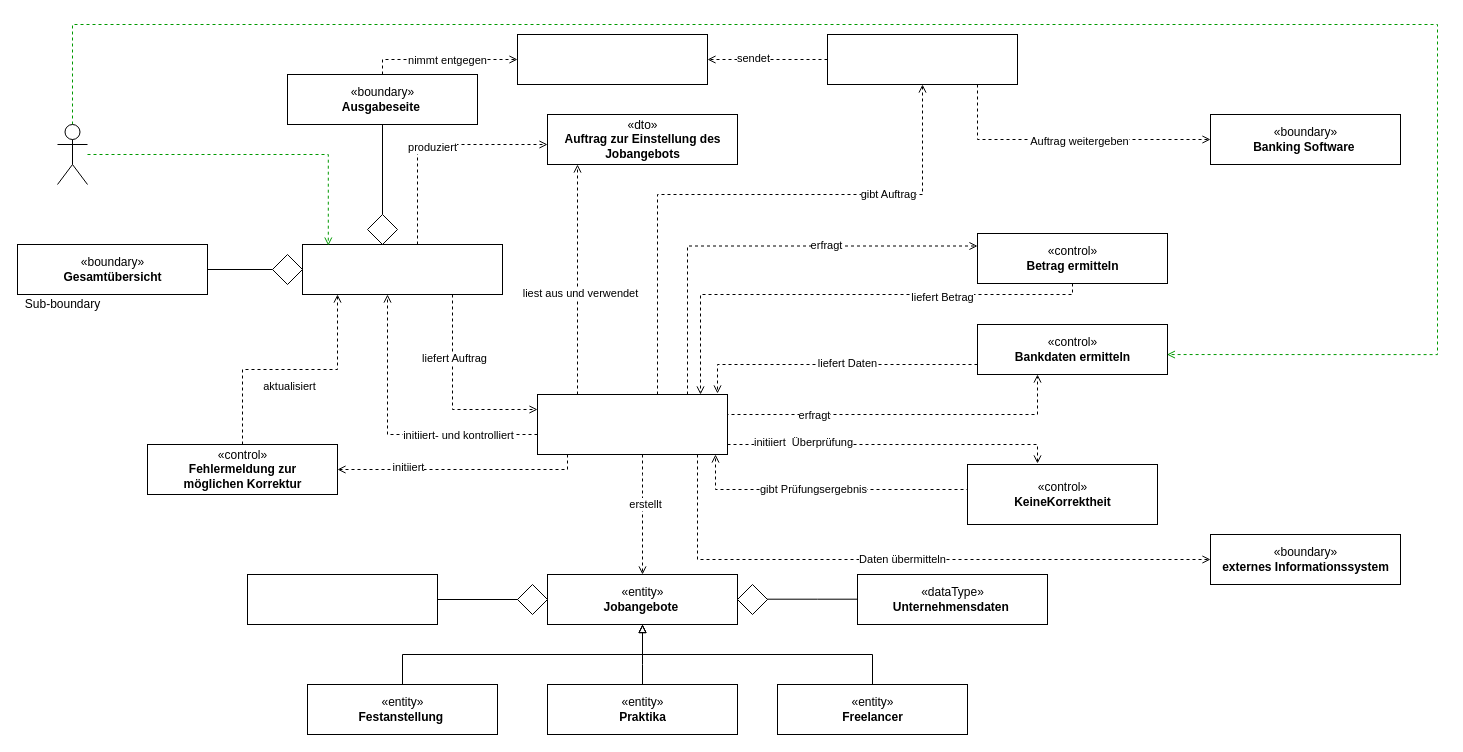
This 1463x752 diagram has some shape labels left out. Here are the shapes that lost their labels. From the top down, the centre of each, then its label:
At pixel 612 59: "«dto» Bestätigung zum Bankeinzug".
At pixel 922 59: "«control» Bankeinzug durchführen".
At pixel 72 154: "Unternehmer".
At pixel 402 269: "«boundary» Seite zur Einstellung des Jobangebots".
At pixel 632 424: "«control» Erstellen eines Jobangebots".
At pixel 342 599: "«dataType» Beschreibungstext (Jobangebot)".
